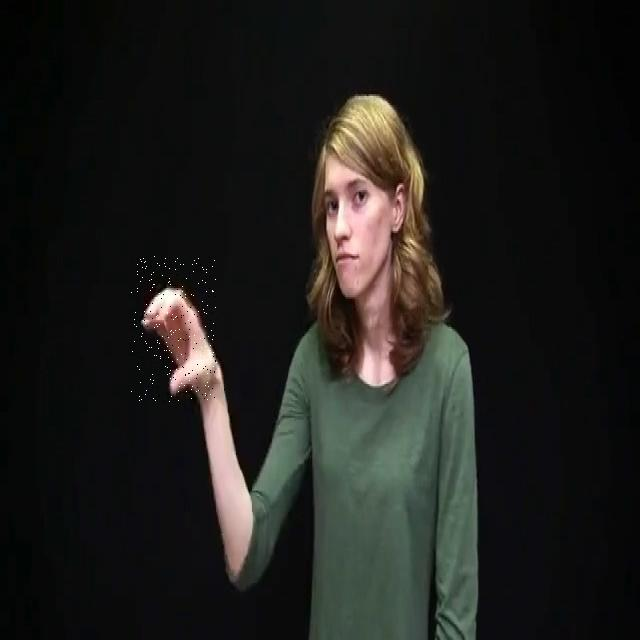pepper: (131, 256, 217, 402)
